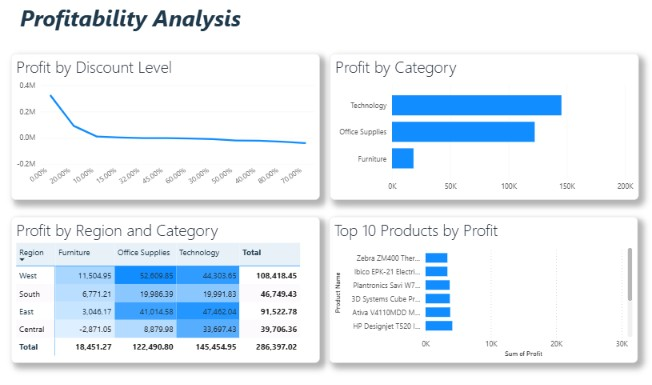

Layout of this report page (visuals, bound fields, positions):
{"tool":"powerbi","page":{"name":"Profitability Analysis","canvas":[1100,1230],"ordinal":1},"visuals":[{"type":"lineChart","title":"Profit by Discount Level","fields":{"Category":["Sample - Superstore.Discount"],"Y":["Sum(Sample - Superstore.Profit)"]},"box":[25,107,517,245],"z":0},{"type":"clusteredBarChart","title":"Profit by Category","fields":{"Category":["Sample - Superstore.Category"],"Y":["Sum(Sample - Superstore.Profit)"]},"box":[558.8,107.5,517,245],"z":1000},{"type":"clusteredBarChart","title":"Top 10 Products by Profit","fields":{"Category":["Sample - Superstore.Product Name"],"Y":["Sum(Sample - Superstore.Profit)"]},"box":[558.2,380,517,245],"z":2000},{"type":"textbox","box":[35,17.3,396.4,71.8],"z":3000},{"type":"pivotTable","title":"Profit by Region and Category","fields":{"Columns":["Sample - Superstore.Category"],"Rows":["Sample - Superstore.Region"],"Values":["Sum(Sample - Superstore.Profit)"]},"box":[25.7,380,517,245],"z":4000}]}

Visuals, with their boxes on the page's 1100x1230 design canvas (x1, y1, x2, y2). These are canvas units, not pixel positions in the 652x385 screenshot, which may show the page scaled, cropped or inside an application window:
"Profit by Discount Level" lineChart: <region>25, 107, 542, 352</region>
"Profit by Category" clusteredBarChart: <region>559, 108, 1076, 352</region>
"Top 10 Products by Profit" clusteredBarChart: <region>558, 380, 1075, 625</region>
textbox: <region>35, 17, 431, 89</region>
"Profit by Region and Category" pivotTable: <region>26, 380, 543, 625</region>
